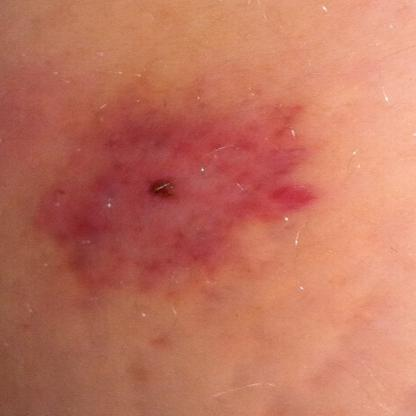Tick: (23, 103, 324, 290)
